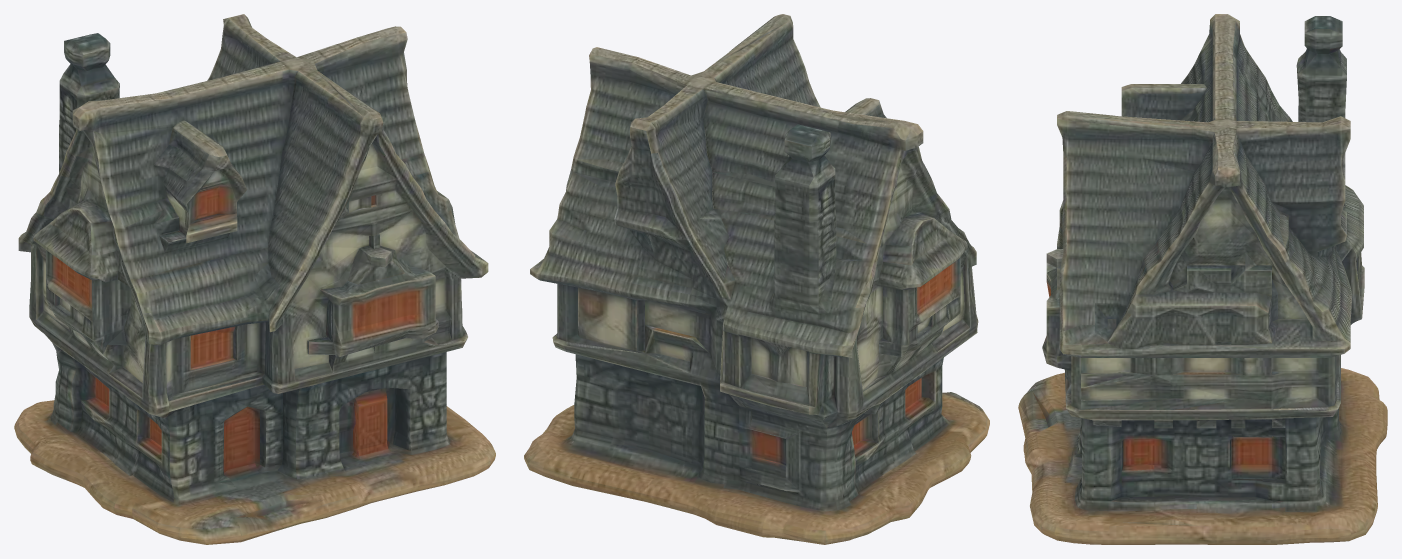
File: cottage_blue.glb
3 views of the same model, side by side, from view 1: azimuth 30°, elevation 25°; view 2: azimuth 150°, elevation 25°; view 3: azimuth 270°, elevation 25° (orthographic).
Bounding box in the file's own units: 1.86 × 1.9 × 1.64.
1 material, 1 textured.
